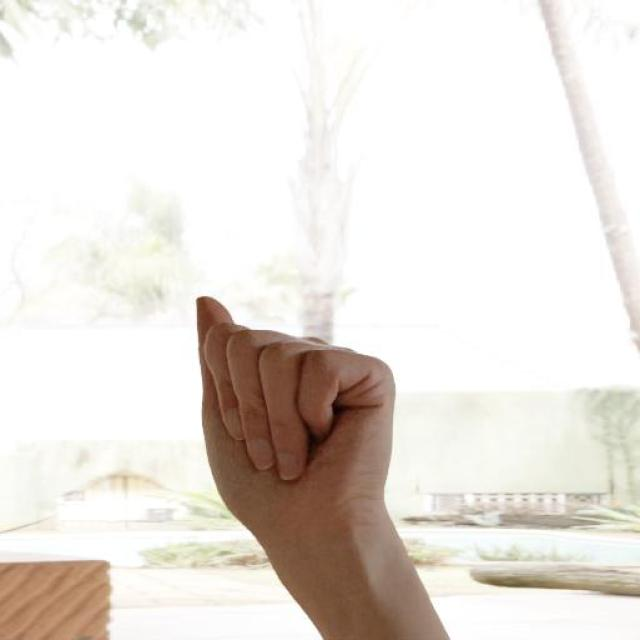A: (189, 294, 400, 535)
